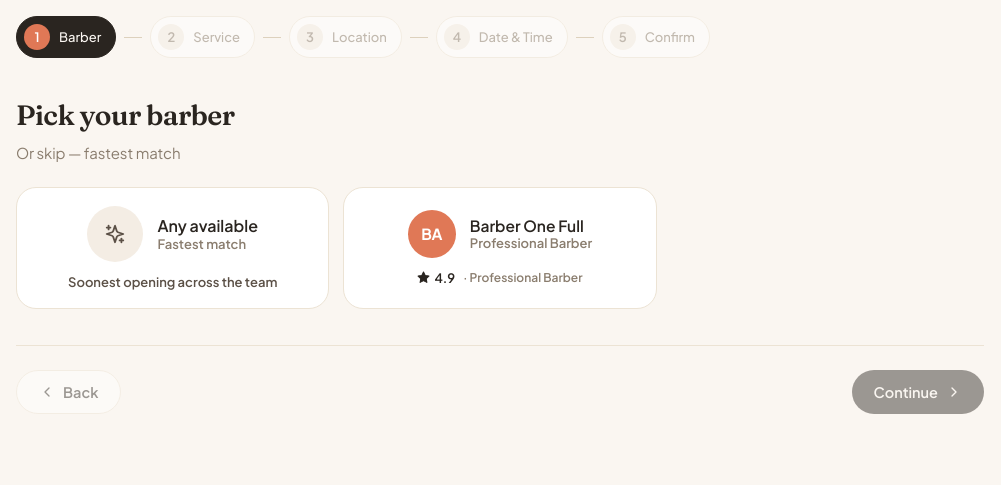
BookingFlow Component › navigates back between steps
// Step 0 → 1
Click the text "Barber One Full".
click(531, 226)  # box top-left (470, 216), bottom-right (592, 235)
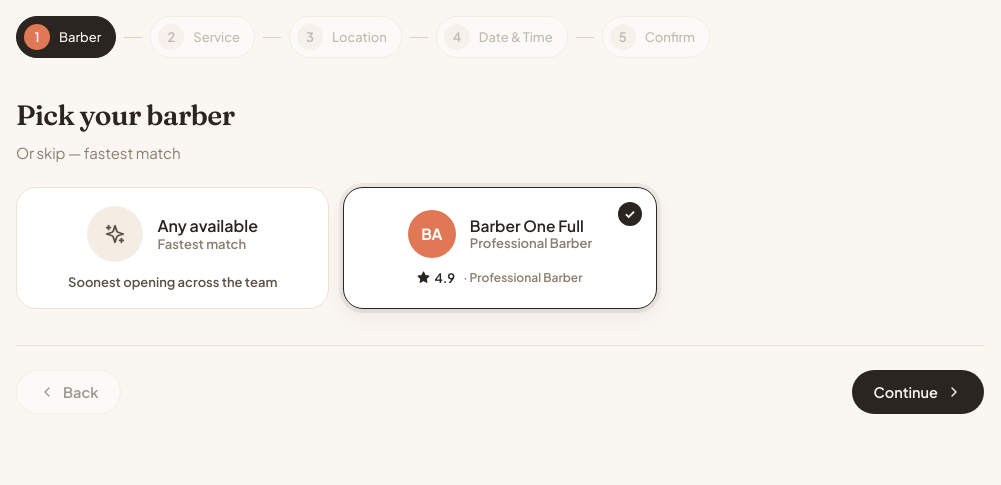
Click the button "Continue".
click(918, 392)  # box top-left (852, 370), bottom-right (984, 414)
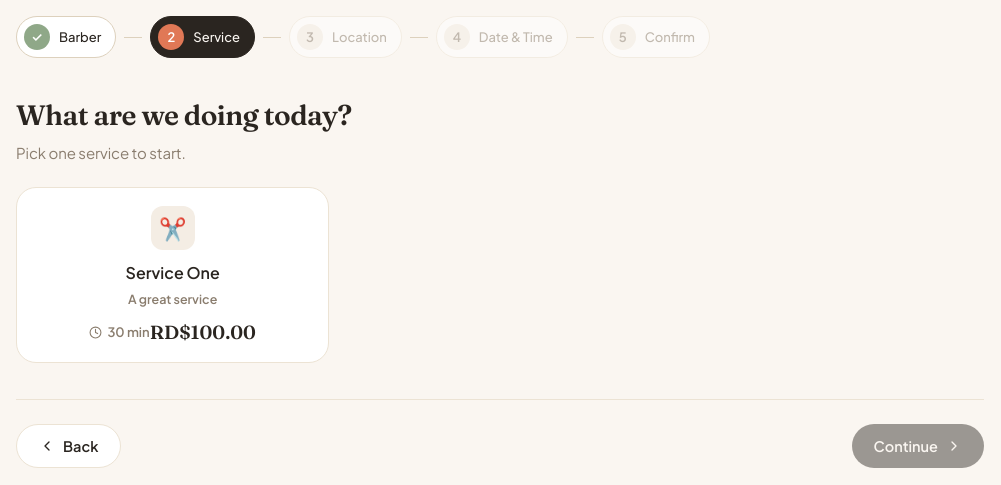
Expected: the heading "What are we doing today?" is shown, top-left (16, 98), bottom-right (352, 132)
// Step 1 → 0 via Back
Click the button "Back".
click(69, 446)  # box top-left (16, 424), bottom-right (121, 468)
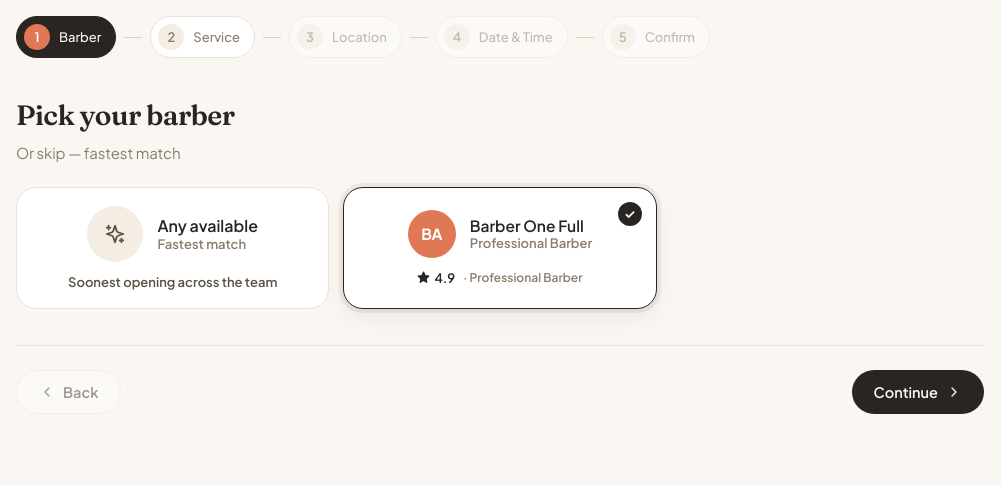
Expected: the heading "Pick your barber" is shown, top-left (16, 98), bottom-right (234, 132)
